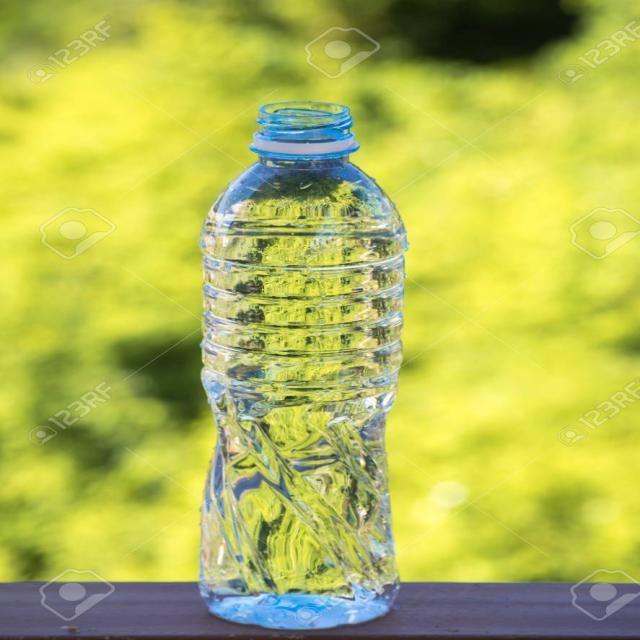bottle: (196, 100, 412, 633)
